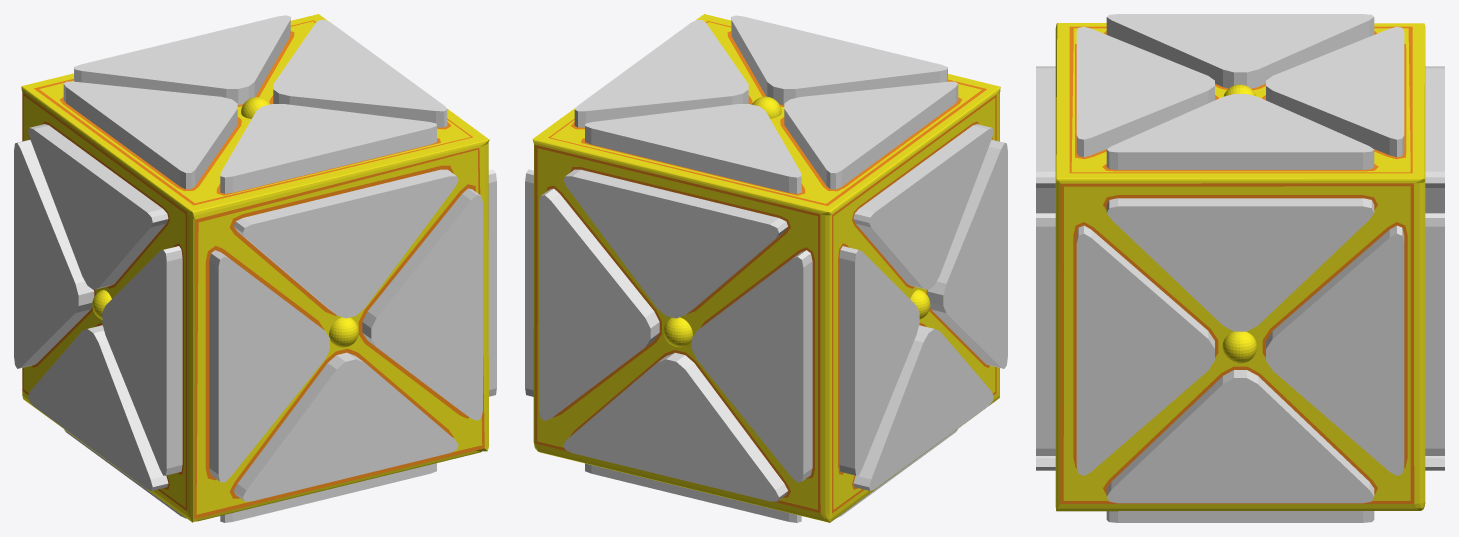
The model's file is caja.fbx.
3 views of the same model, side by side, from view 1: azimuth 30°, elevation 25°; view 2: azimuth 150°, elevation 25°; view 3: azimuth 270°, elevation 25° (orthographic). The views are drawn at different scales.
Visible parts, largest first — view 1: Plane, Cube; view 2: Plane, Cube; view 3: Plane, Cube.
Boxes of the visible parts, <box> form: Plane: <box>14,15,496,522</box>; Cube: <box>21,14,489,522</box>; Plane: <box>525,15,1007,522</box>; Cube: <box>532,14,1000,522</box>; Plane: <box>1036,14,1444,522</box>; Cube: <box>1055,23,1425,511</box>.
Bounding box in the file's own units: 221 × 221 × 221.
1 material, 1 textured.
